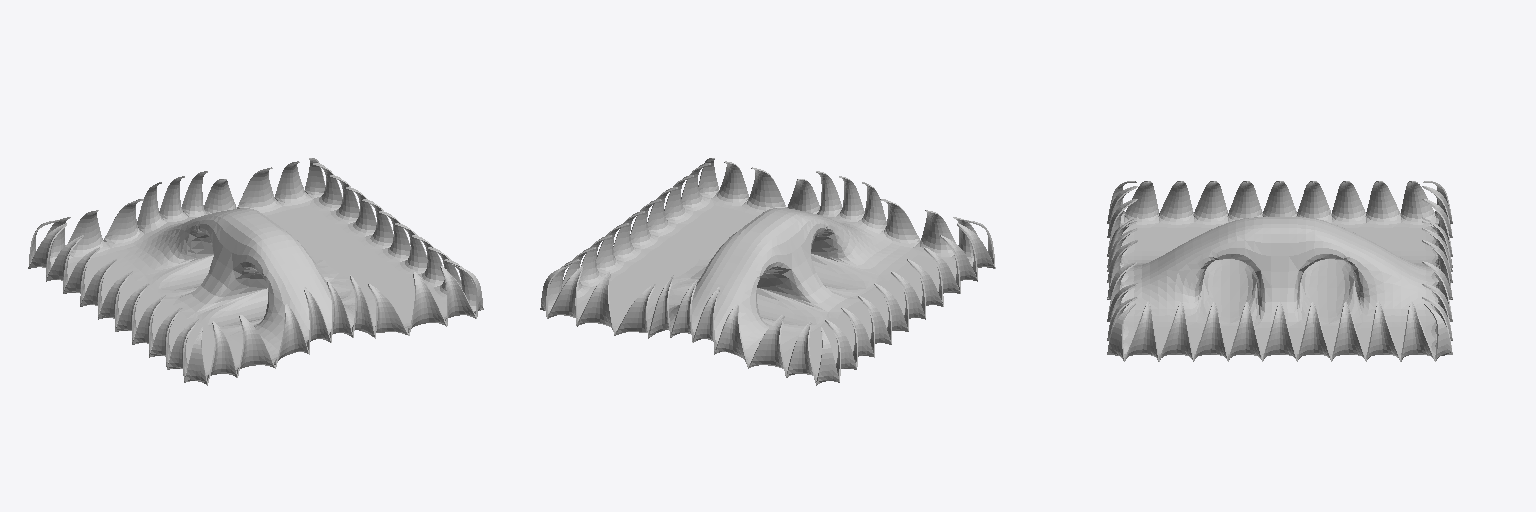
Rendered from devil3.obj.
3 renders of one model, left to right at view 1: azimuth 30°, elevation 25°; view 2: azimuth 150°, elevation 25°; view 3: azimuth 270°, elevation 25°, orthographic.
Parts seen in each view (by area): view 1: polySurface7; view 2: polySurface7; view 3: polySurface7.
Part boxes in pixels (bbox=[...]): polySurface7: bbox=[28, 158, 483, 385]; polySurface7: bbox=[540, 158, 995, 385]; polySurface7: bbox=[1107, 181, 1452, 361].
Bounding box in the file's own units: 23.3 × 5.14 × 23.3.